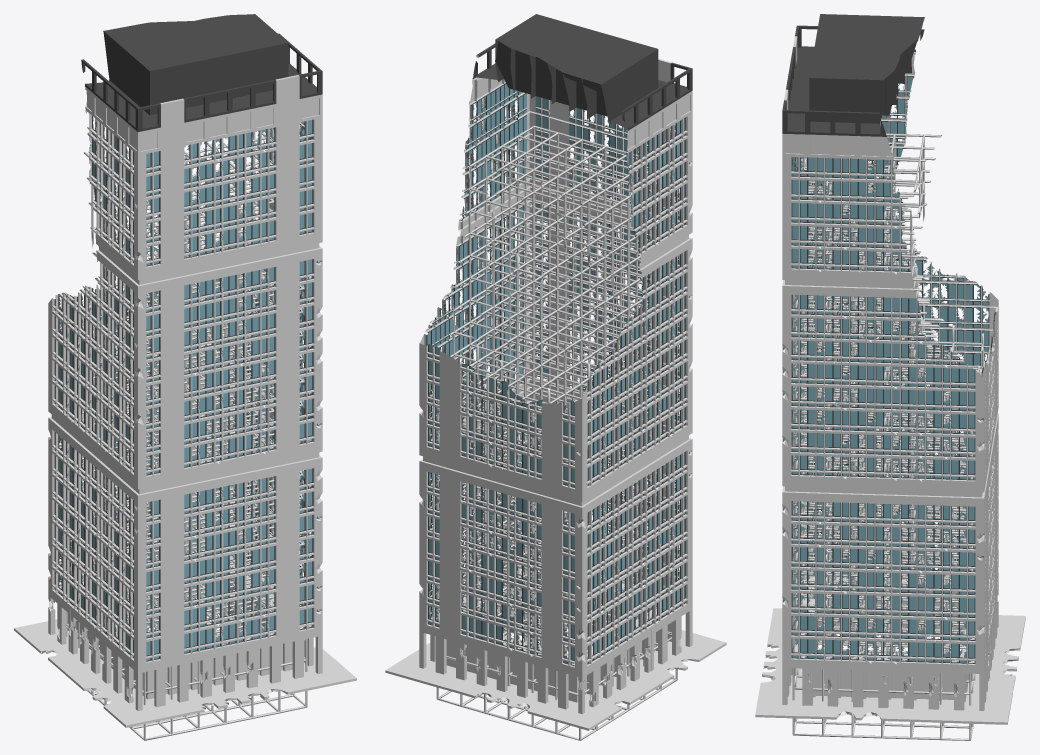
File: building2.fbx
3 views of the same model, side by side, from view 1: azimuth 30°, elevation 25°; view 2: azimuth 150°, elevation 25°; view 3: azimuth 270°, elevation 25° (orthographic). The views are drawn at different scales.
Visible parts, largest first — view 1: Building #5 outer, Building #5 inner; view 2: Building #5 outer, Building #5 inner; view 3: Building #5 outer, Building #5 inner.
Boxes of the visible parts, <box> form: Building #5 outer: <box>14,14,356,727</box>; Building #5 inner: <box>66,131,307,740</box>; Building #5 outer: <box>385,14,726,730</box>; Building #5 inner: <box>436,125,677,740</box>; Building #5 outer: <box>755,14,1025,724</box>; Building #5 inner: <box>792,133,983,740</box>.
Bounding box in the file's own units: 93 × 247 × 93.
